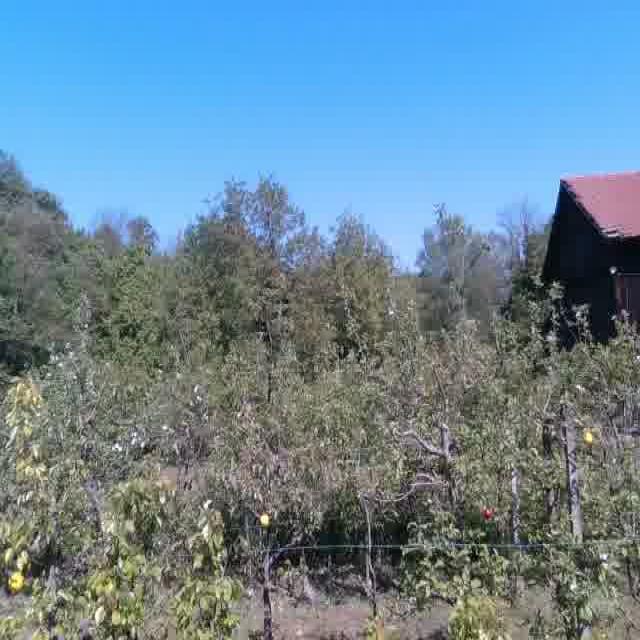red: (479, 502, 497, 521)
yellow: (7, 568, 25, 594), (258, 509, 271, 528), (584, 431, 594, 445)
